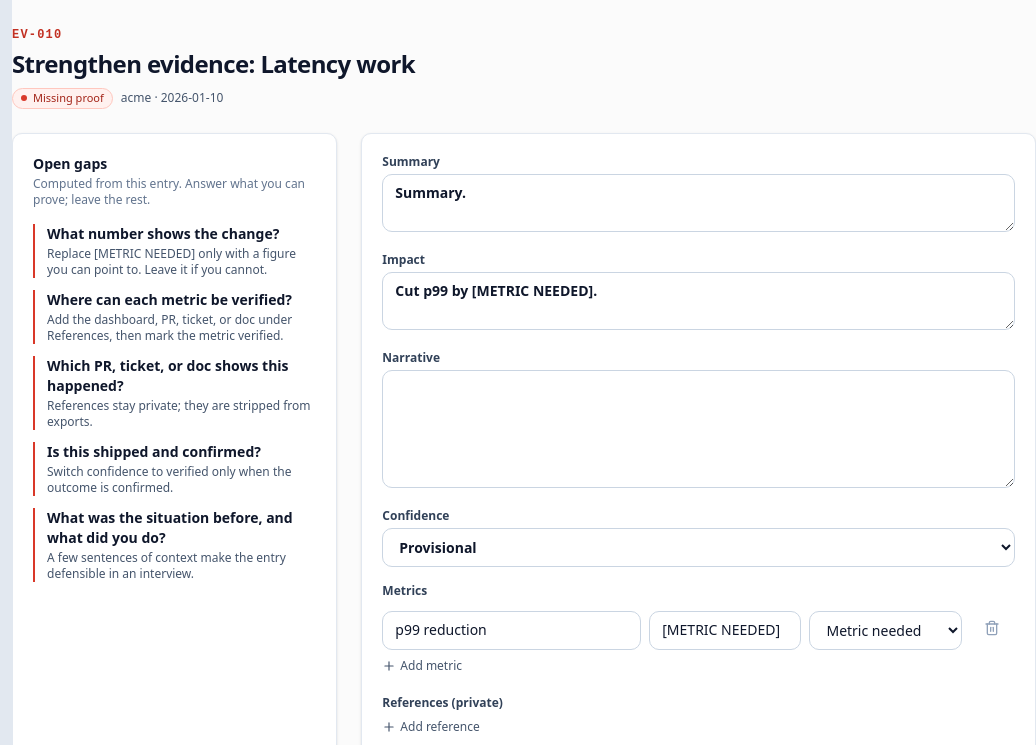
Test: EvidenceStrengthener › warns when a metric is marked verified without any reference
Select "Verified" in the dropdown named "Metric 1 status" at (886,630), box [809,611,962,650]
(page scrolled)
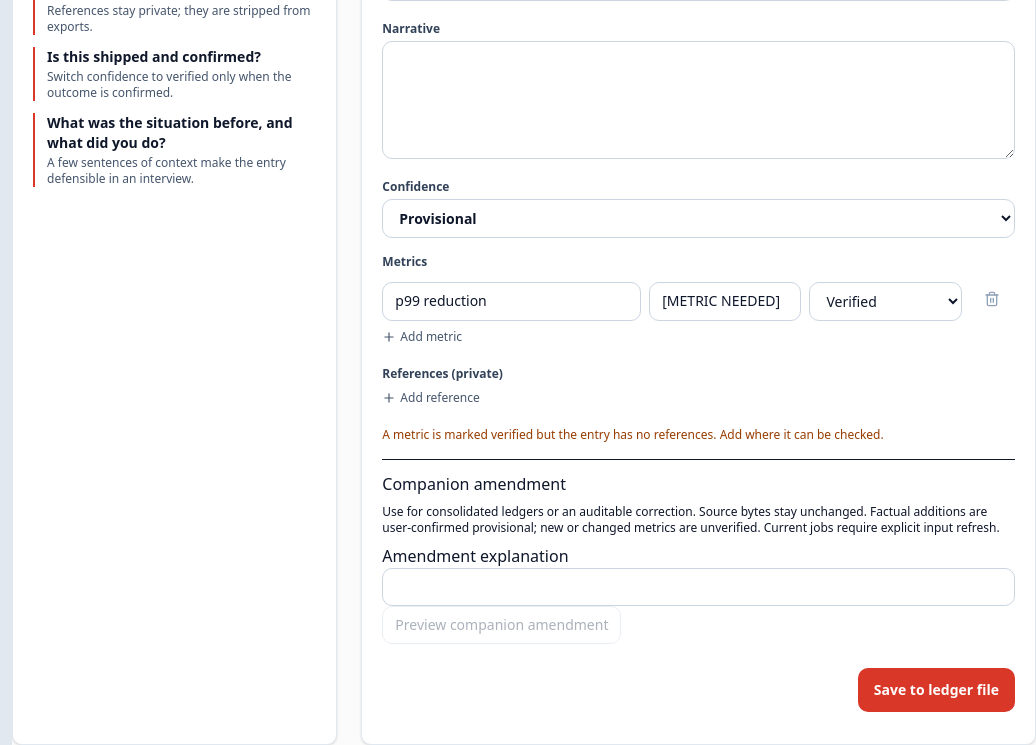
expect the text "marked verified but the entry has no references" is shown: met, box [382,426,884,443]
